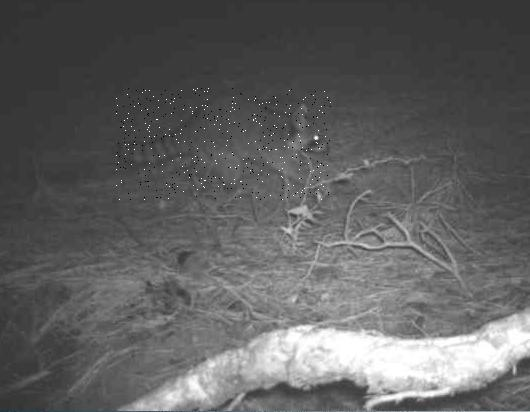Raccoon: (116, 88, 331, 200)
